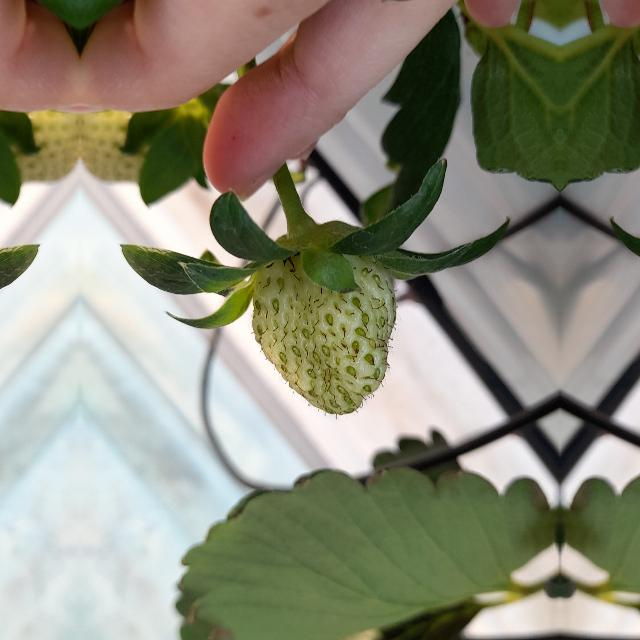Health_25: (250, 253, 400, 419)
